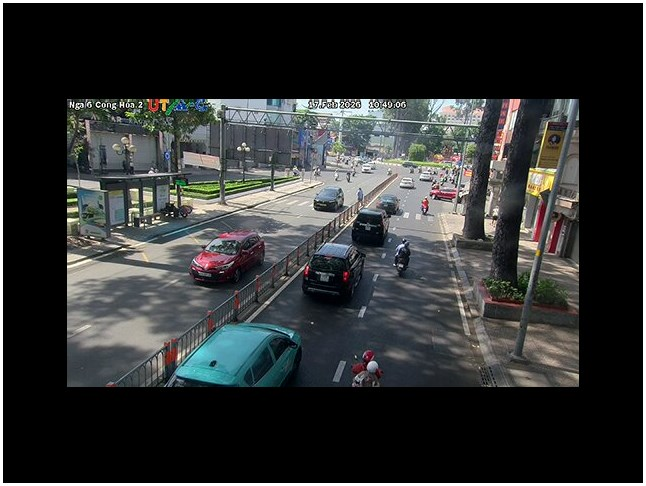car: (165, 321, 304, 386), (189, 230, 266, 284), (301, 242, 365, 300), (351, 208, 388, 246), (313, 186, 345, 212), (378, 195, 400, 215), (433, 185, 458, 201), (399, 176, 416, 189)
